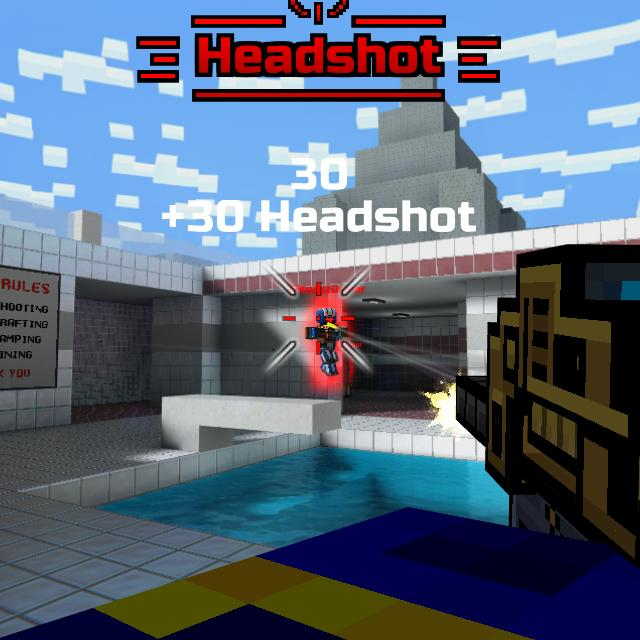Enemy: (304, 310, 347, 378)
